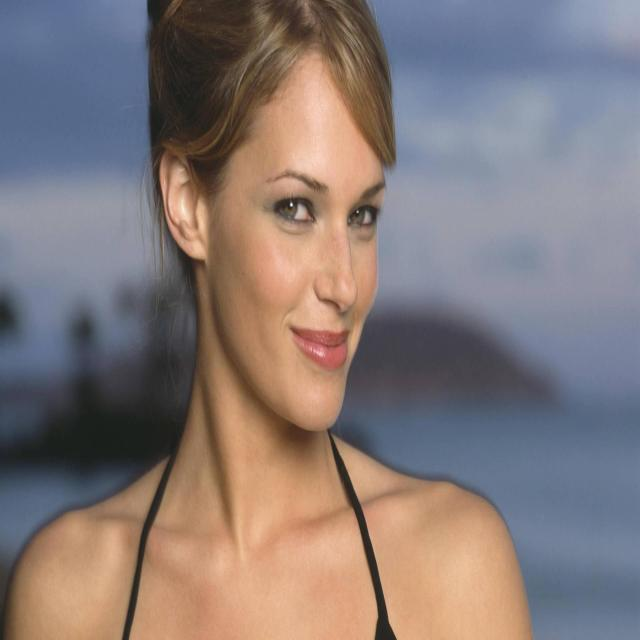no-earmuff: (146, 132, 226, 292)
